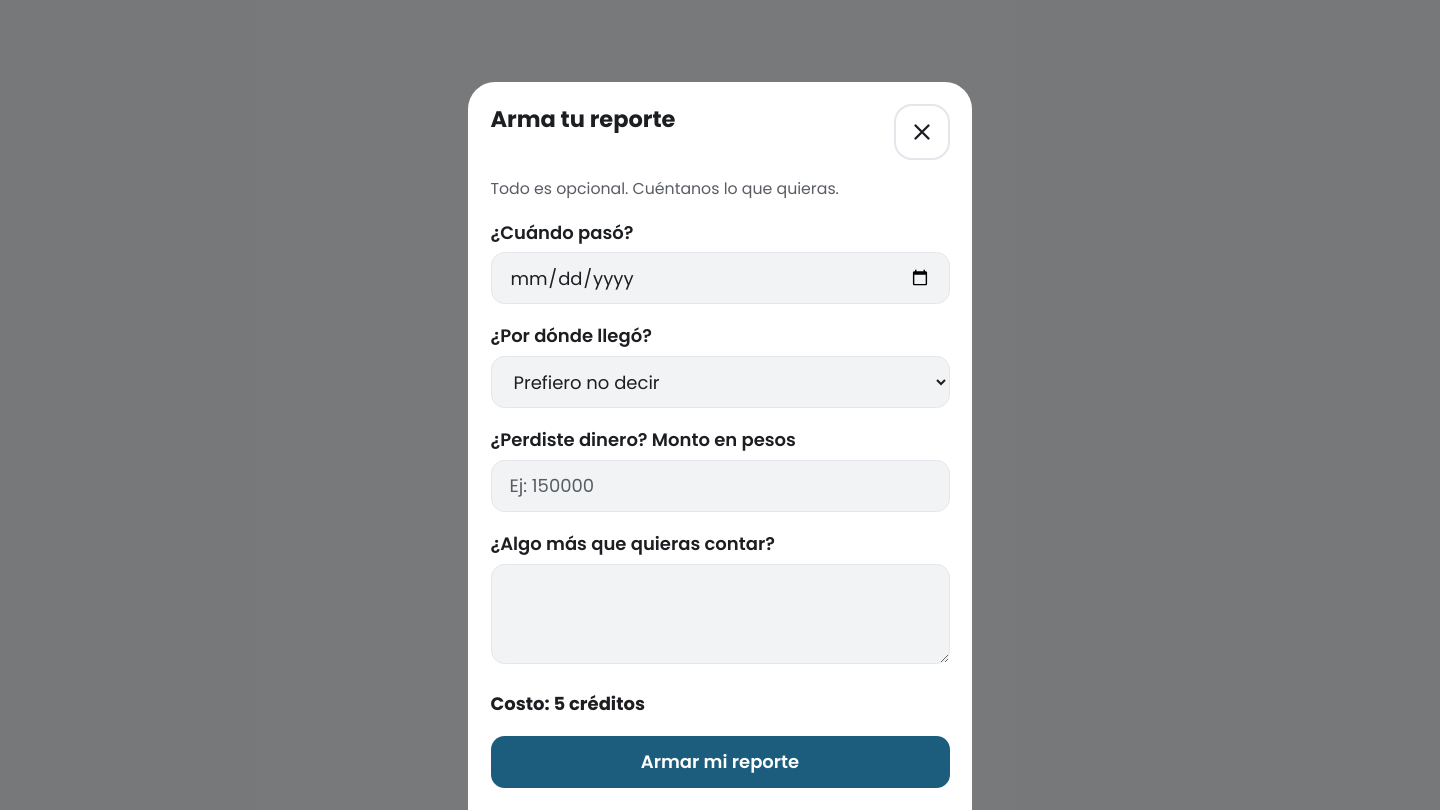
it: ReportSheet › envía solo lo llenado y muestra el código
Expected: the text "Costo: 5 créditos" is shown, [490,691,645,716]
Select "WhatsApp" in the dropdown labelled "¿Por dónde llegó?" at (720, 382), box [490,356,950,408]
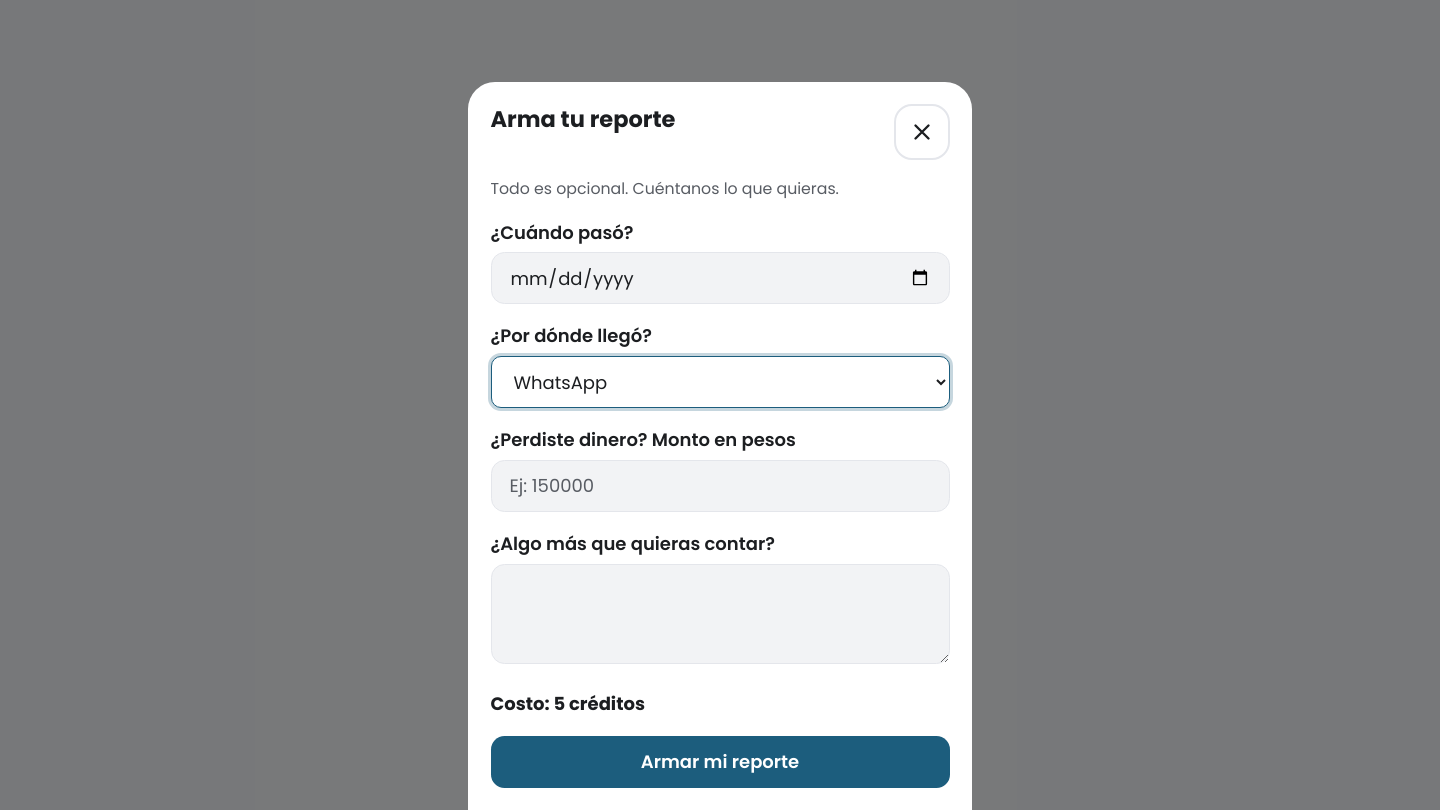
Type "150000" into the field labelled "¿Perdiste dinero? Monto en pesos" at (720, 486), box [490,460,950,512]
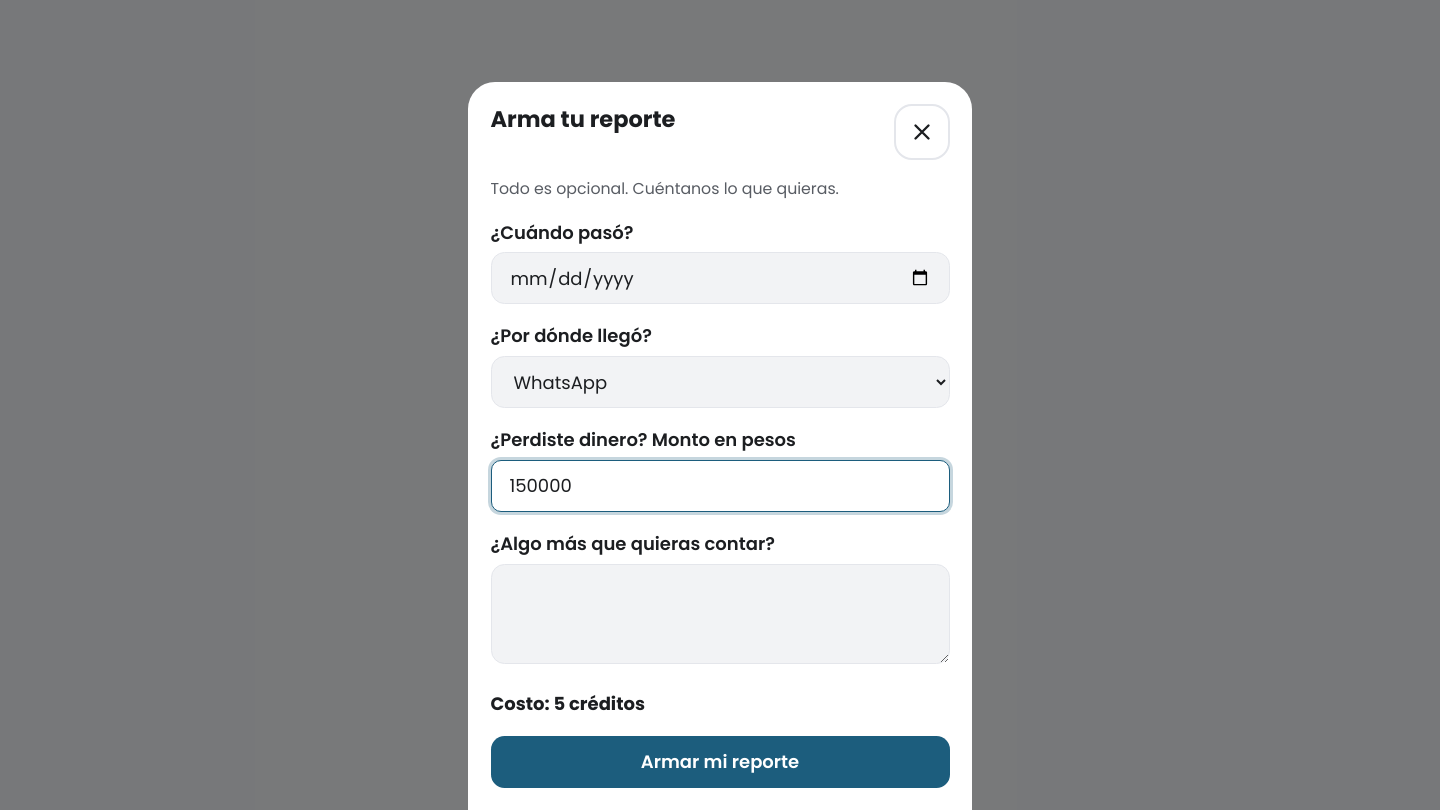
Click the button "Armar mi reporte" at (720, 762), box [490,736,950,788]
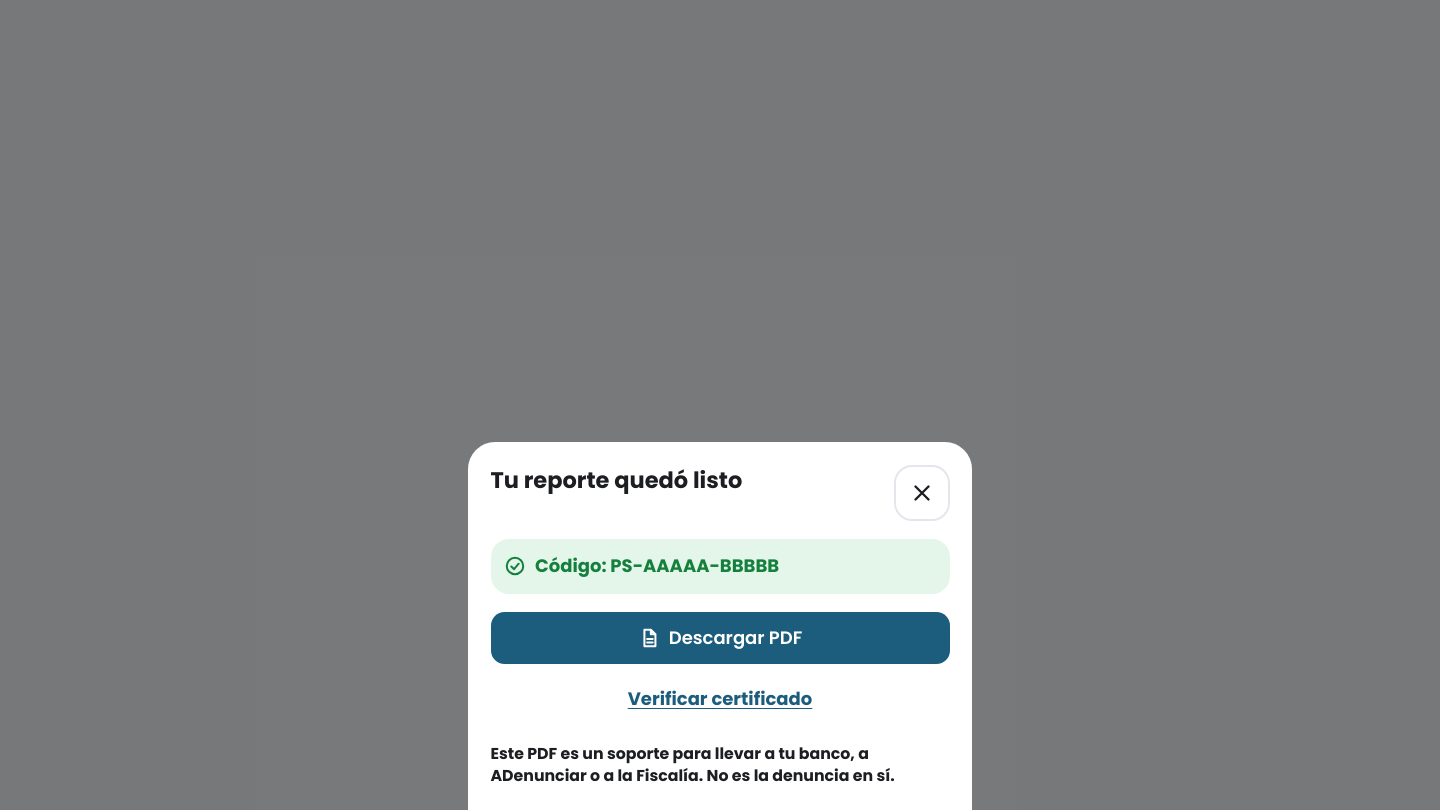
Expected: the text "Código: PS-AAAAA-BBBBB" is shown, [490,539,950,594]
Expected: the text "No es la denuncia en sí" is shown, [490,742,895,787]
